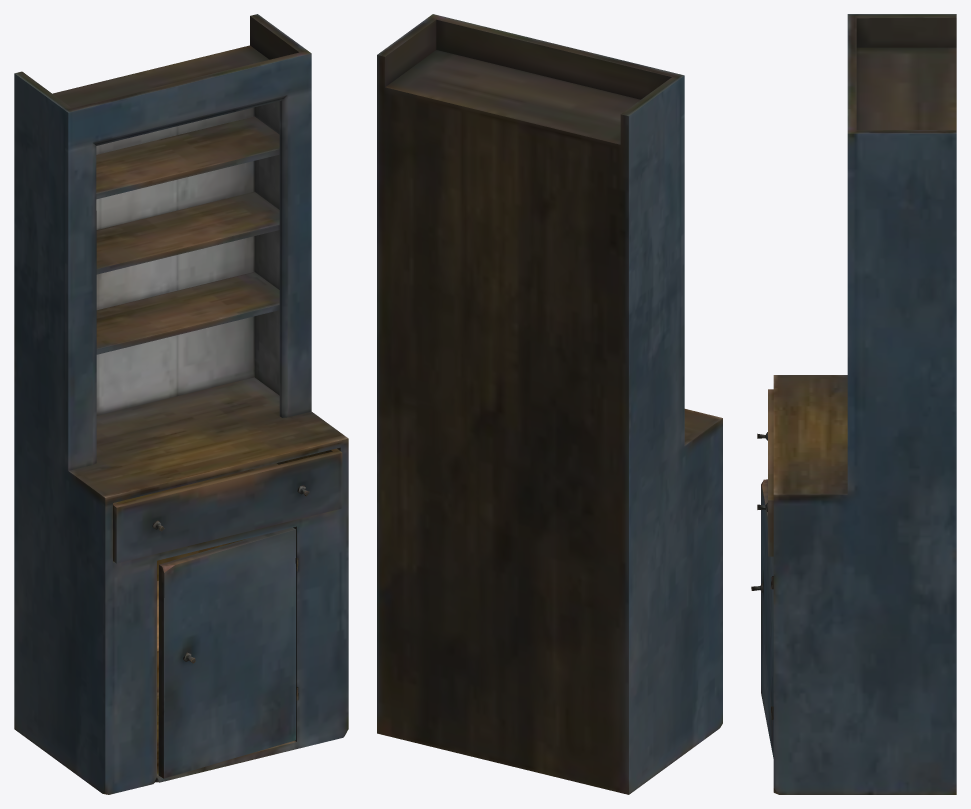
Rendered from painted_wooden_cabinet_02.glb.
3 renders of one model, left to right at view 1: azimuth 30°, elevation 25°; view 2: azimuth 150°, elevation 25°; view 3: azimuth 270°, elevation 25°, orthographic. The views are drawn at different scales.
Parts seen in each view (by area): view 1: painted_wooden_cabinet_02; view 2: painted_wooden_cabinet_02; view 3: painted_wooden_cabinet_02.
Part boxes in pixels (left/top/right/bottom): painted_wooden_cabinet_02: left=14, top=14, right=348, bottom=794; painted_wooden_cabinet_02: left=377, top=14, right=722, bottom=794; painted_wooden_cabinet_02: left=751, top=14, right=956, bottom=794.
Size of the model in its own units: 0.9969 by 2.57 by 0.7223.
Materials: 1 (1 with a texture image).
